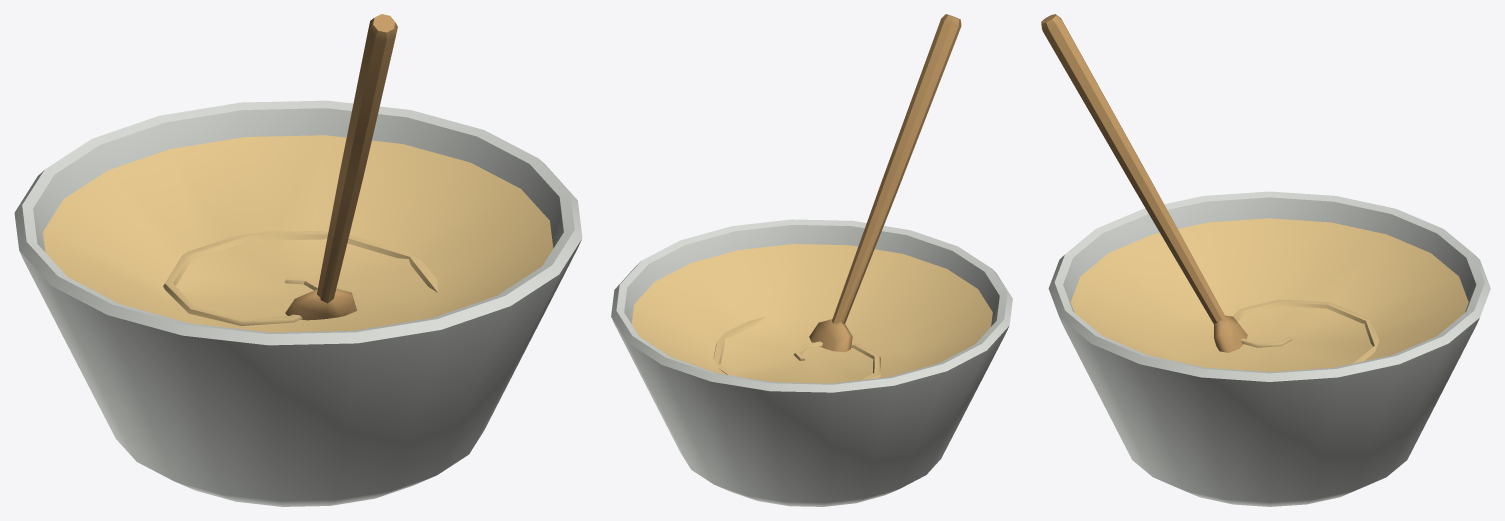
File: mixingBowl.glb
3 renders of one model, left to right at view 1: azimuth 30°, elevation 25°; view 2: azimuth 150°, elevation 25°; view 3: azimuth 270°, elevation 25°, orthographic. The views are drawn at different scales.
Visible parts, largest first — view 1: mixingBowl; view 2: mixingBowl; view 3: mixingBowl.
Boxes of the visible parts, left/top/right/bottom form: mixingBowl: left=14, top=14, right=582, bottom=506; mixingBowl: left=611, top=14, right=1012, bottom=506; mixingBowl: left=1041, top=14, right=1490, bottom=506.
Bounding box in the file's own units: 0.26 × 0.2726 × 0.2644.
